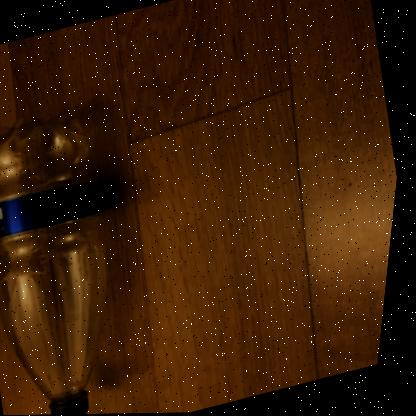Plastic: (0, 115, 111, 415)
